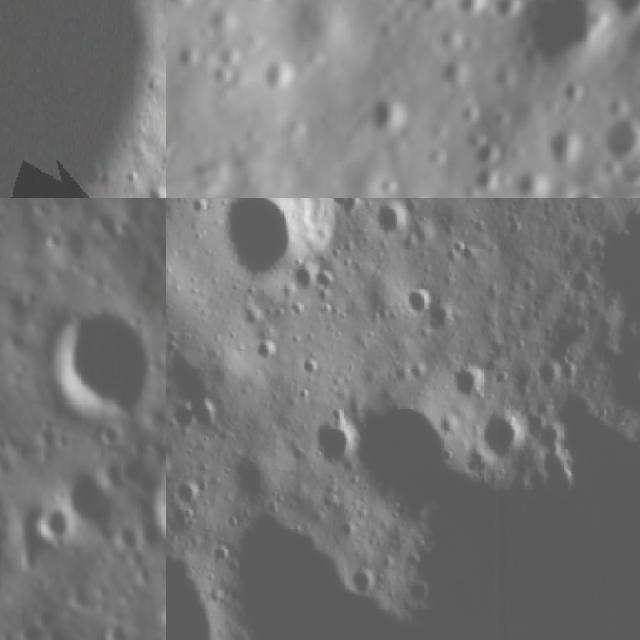crater: (356, 385, 478, 511), (39, 298, 158, 413), (486, 0, 625, 90), (216, 198, 347, 287), (166, 540, 232, 640), (583, 198, 640, 304), (348, 78, 420, 152), (54, 456, 120, 532), (534, 118, 594, 178), (479, 404, 535, 463), (310, 408, 359, 473), (592, 111, 640, 174), (252, 51, 303, 106), (143, 440, 166, 553), (231, 454, 278, 508), (456, 154, 511, 198), (28, 499, 77, 548), (584, 0, 640, 36), (373, 198, 419, 239), (452, 359, 488, 408), (166, 38, 207, 81), (62, 576, 101, 615), (210, 38, 247, 78), (347, 559, 385, 597), (168, 401, 204, 441), (205, 63, 245, 97), (397, 280, 434, 316), (549, 178, 614, 198), (556, 353, 590, 391), (96, 605, 132, 640), (188, 398, 222, 433), (534, 354, 566, 391), (173, 477, 204, 513), (289, 262, 320, 297), (254, 332, 280, 369), (30, 604, 61, 634), (296, 354, 324, 382), (330, 198, 361, 221), (315, 265, 339, 294), (408, 355, 432, 383), (185, 198, 211, 222), (212, 539, 232, 566), (145, 187, 166, 198)
